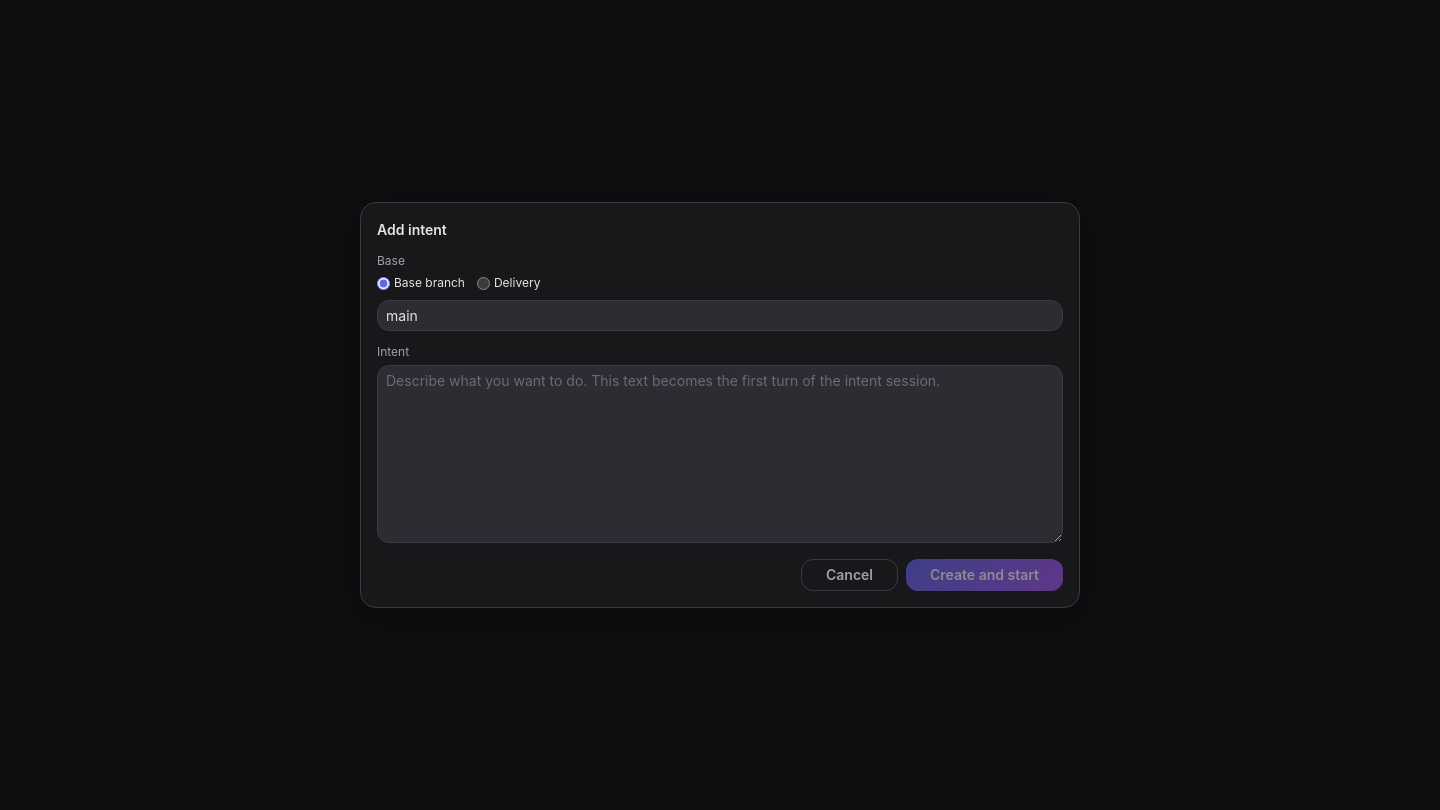
Test: CreateIntentDialog — 校验与提交 › 切到交付支但未选中任何交付 → 不可提交
Replace the text in the text box with test id "create-intent-content" with "CONTENT_ABC" at (720, 454), box [377,365,1063,543]
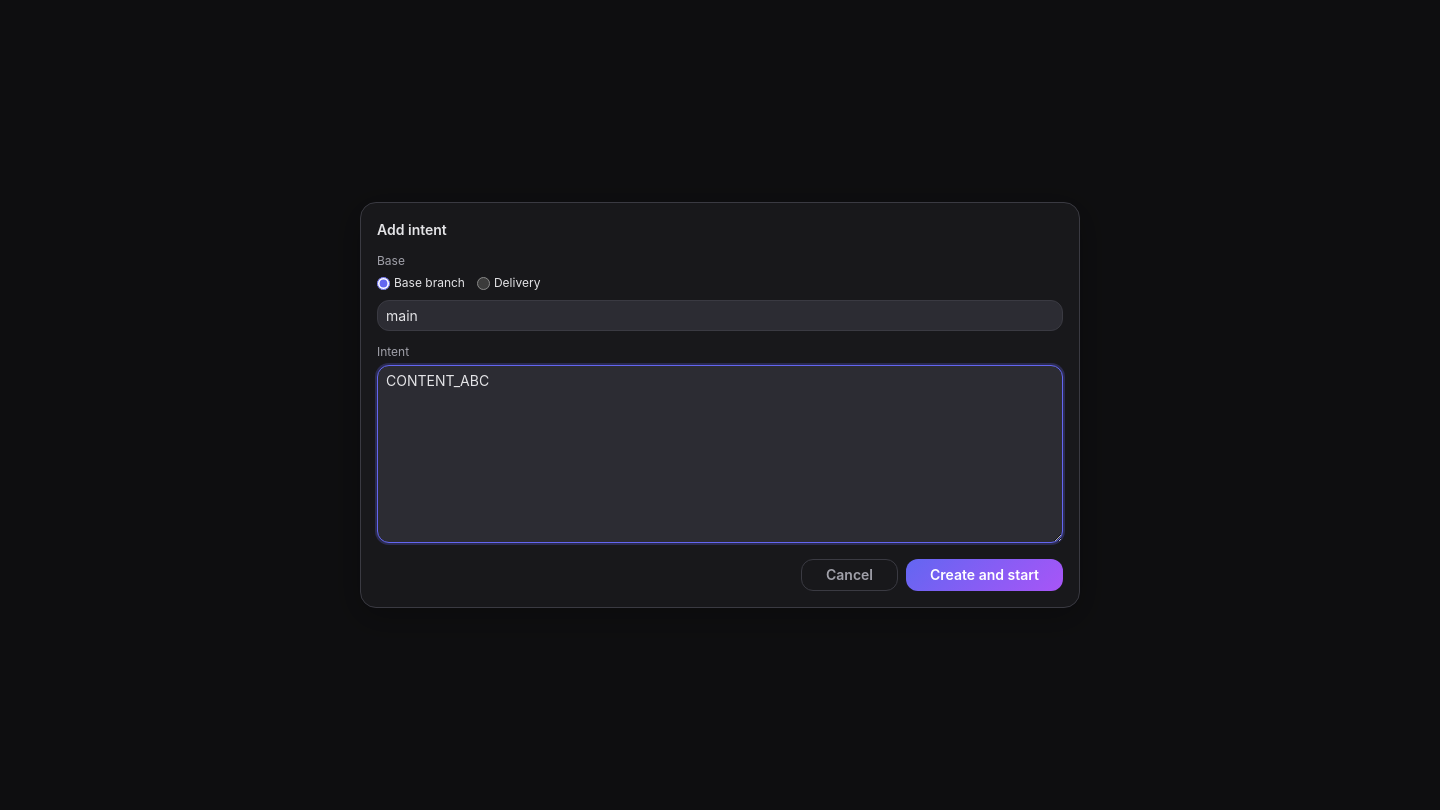
Click the radio button with test id "create-intent-base-delivery".
click(484, 283)  # box [477,276,490,290]
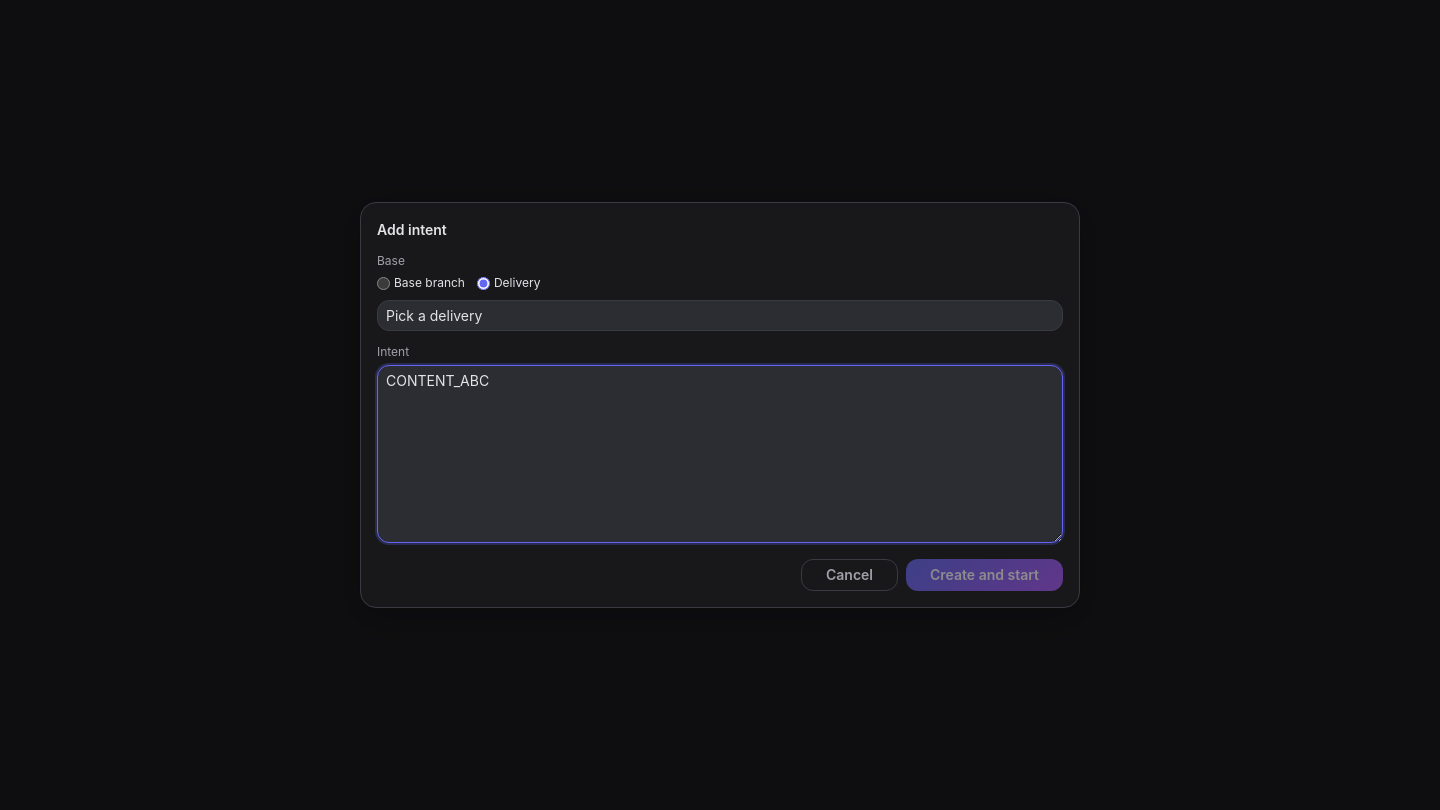
Expected: the button with test id "create-intent-submit" is disabled, [906,559,1063,591]
